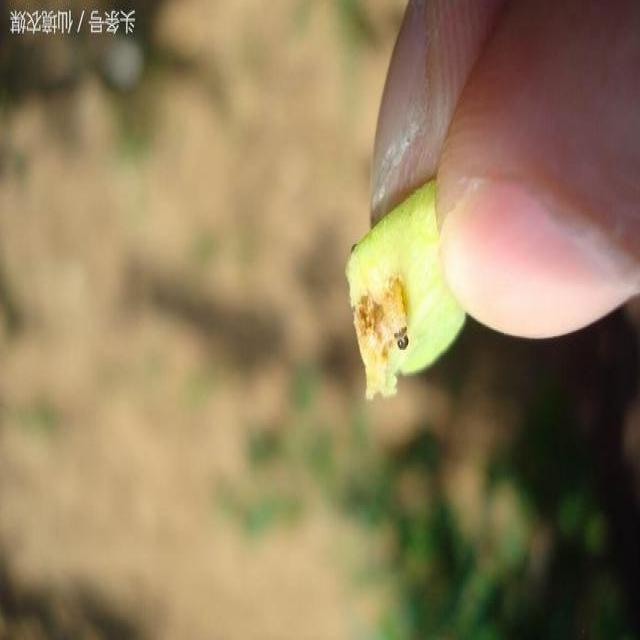peach borer: (373, 272, 416, 356)
